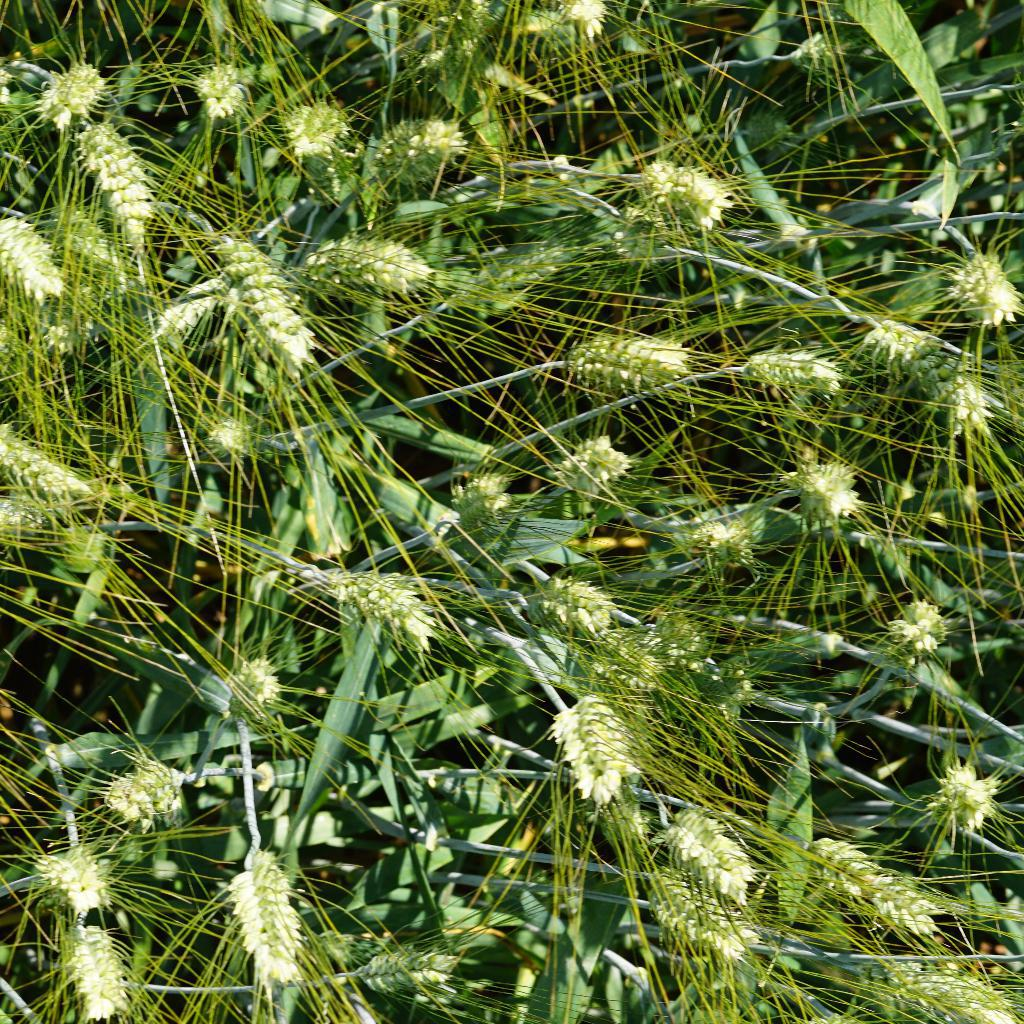0-0: (203, 224, 320, 381), (787, 834, 946, 942), (438, 215, 606, 312), (635, 869, 766, 970), (66, 122, 160, 261), (436, 232, 587, 318), (840, 956, 1022, 1024), (224, 834, 306, 983), (546, 689, 644, 806), (313, 569, 439, 653), (346, 116, 470, 200), (29, 196, 135, 294), (905, 333, 1000, 442), (0, 421, 111, 513), (655, 807, 756, 906), (285, 235, 433, 300), (548, 332, 697, 395), (92, 750, 201, 835), (137, 262, 236, 351), (55, 921, 140, 1024), (30, 830, 123, 918), (619, 164, 746, 227), (855, 310, 953, 387), (769, 16, 906, 68), (912, 759, 1000, 838), (944, 244, 1021, 332), (734, 340, 849, 398), (513, 577, 617, 641), (399, 16, 496, 84), (340, 949, 462, 1003), (775, 457, 864, 530), (551, 431, 639, 504), (0, 212, 69, 303), (578, 632, 675, 695), (29, 61, 112, 131), (436, 469, 517, 530), (221, 652, 287, 726), (879, 592, 948, 662), (284, 94, 352, 165), (641, 603, 709, 672), (685, 653, 752, 718), (196, 407, 262, 472), (28, 304, 102, 360), (690, 514, 760, 569), (187, 60, 248, 123), (296, 141, 346, 211), (0, 490, 54, 542), (548, 0, 611, 40), (739, 106, 795, 151), (512, 0, 570, 43), (302, 924, 359, 967)
